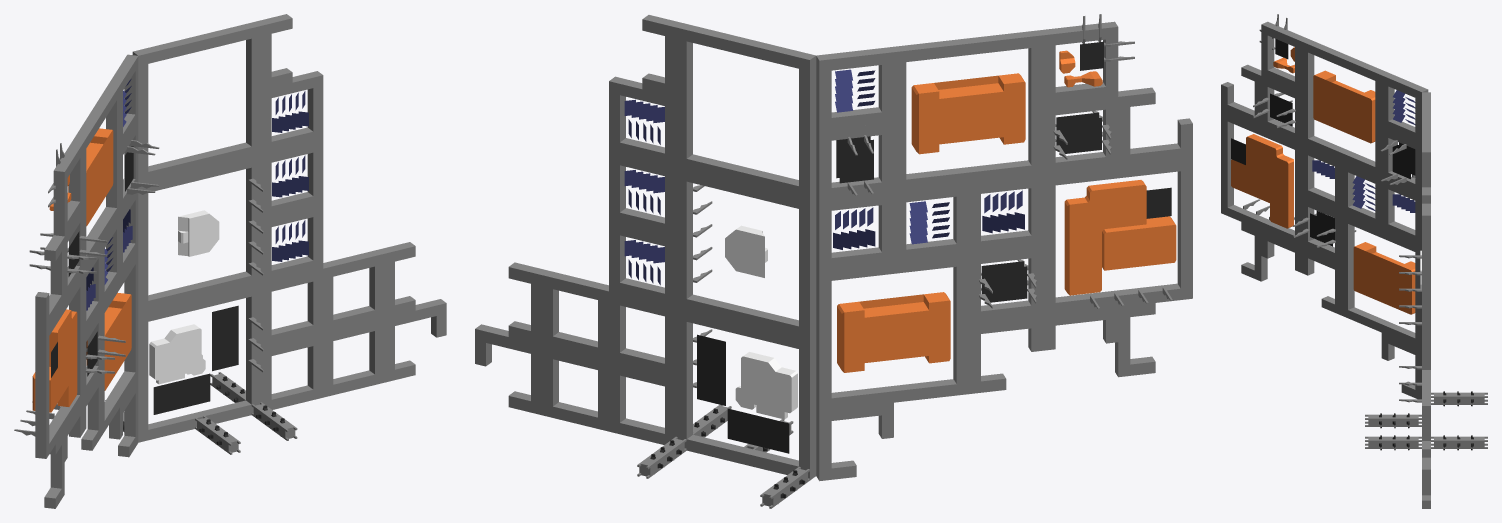
Rendered from StarbaseAtlasProjectEmpireOutpost.glb.
3 views of the same model, side by side, from view 1: azimuth 30°, elevation 25°; view 2: azimuth 150°, elevation 25°; view 3: azimuth 270°, elevation 25° (orthographic). The views are drawn at different scales.
Parts seen in each view (by area): view 1: Block_Marketplace.004, Block_Command_Center.004, Block.258, Block_Ship_Shop_Empire.002, Block_Ship_Hangars_Empire.011, Block_Ship_Hangars_Empire.010, Quarter_Block_solar.025, Quarter_Block_solar.026, Quarter_Block_solar.027, Quarter_Block.742, Quarter_Block.739, Quarter_Block.741 (+20 smaller); view 2: Block_Ship_Shop_Empire.002, Block_Ship_Hangars_Empire.011, Block_Ship_Hangars_Empire.010, Block_Marketplace.004, Block_Command_Center.004, Block.258, Quarter_Block_Spawn_Empire.002, Quarter_Block_Towers.164, Quarter_Block_Towers.163, Quarter_Block_Towers.165, Quarter_Block_solar.029, Quarter_Block_solar.028 (+19 smaller); view 3: Block_Ship_Shop_Empire.002, Block_Ship_Hangars_Empire.011, Block_Ship_Hangars_Empire.010, Quarter_Block_Spawn_Empire.002, Quarter_Block_Towers.165, Quarter_Block_solar.029, Quarter_Block_Towers.163, Quarter_Block_Towers.164, Quarter_Block_solar.030, Quarter_Block_solar.031, Quarter_Block_solar.028, Quarter_Block_Three_Quarter.055 (+16 smaller).
Part boxes in pixels (<box>): Block_Marketplace.004: <box>138,284,263,442</box>; Block_Command_Center.004: <box>138,155,263,313</box>; Block.258: <box>132,21,261,183</box>; Block_Ship_Shop_Empire.002: <box>14,273,83,458</box>; Block_Ship_Hangars_Empire.011: <box>68,83,119,270</box>; Block_Ship_Hangars_Empire.010: <box>86,250,138,435</box>; Quarter_Block_solar.025: <box>261,71,323,154</box>; Quarter_Block_solar.026: <box>261,140,323,218</box>; Quarter_Block_solar.027: <box>261,204,323,283</box>; Quarter_Block.742: <box>323,249,384,332</box>; Quarter_Block.739: <box>261,269,323,347</box>; Quarter_Block.741: <box>323,318,384,397</box>; Block_Ship_Shop_Empire.002: <box>1043,158,1192,315</box>; Block_Ship_Hangars_Empire.011: <box>891,30,1043,192</box>; Block_Ship_Hangars_Empire.010: <box>816,254,968,410</box>; Block_Marketplace.004: <box>676,308,816,480</box>; Block_Command_Center.004: <box>676,167,816,340</box>; Block.258: <box>676,23,816,200</box>; Quarter_Block_Spawn_Empire.002: <box>1040,14,1134,105</box>; Quarter_Block_Towers.164: <box>1043,97,1118,175</box>; Quarter_Block_Towers.163: <box>816,122,893,200</box>; Quarter_Block_Towers.165: <box>969,245,1043,323</box>; Quarter_Block_solar.029: <box>816,47,893,130</box>; Quarter_Block_solar.028: <box>816,192,893,270</box>; Block_Ship_Shop_Empire.002: <box>1221,110,1301,246</box>; Block_Ship_Hangars_Empire.011: <box>1301,38,1387,177</box>; Block_Ship_Hangars_Empire.010: <box>1341,213,1421,349</box>; Quarter_Block_Spawn_Empire.002: <box>1259,14,1307,92</box>; Quarter_Block_Towers.165: <box>1293,196,1356,263</box>; Quarter_Block_solar.029: <box>1381,72,1428,143</box>; Quarter_Block_Towers.163: <box>1380,127,1421,194</box>; Quarter_Block_Towers.164: <box>1253,76,1301,143</box>; Quarter_Block_solar.030: <box>1341,161,1381,229</box>; Quarter_Block_solar.031: <box>1301,144,1341,212</box>; Quarter_Block_solar.028: <box>1381,178,1421,246</box>; Quarter_Block_Three_Quarter.055: <box>1221,64,1261,126</box>.
Bounding box in the file's own units: 1604 × 1160 × 869.
